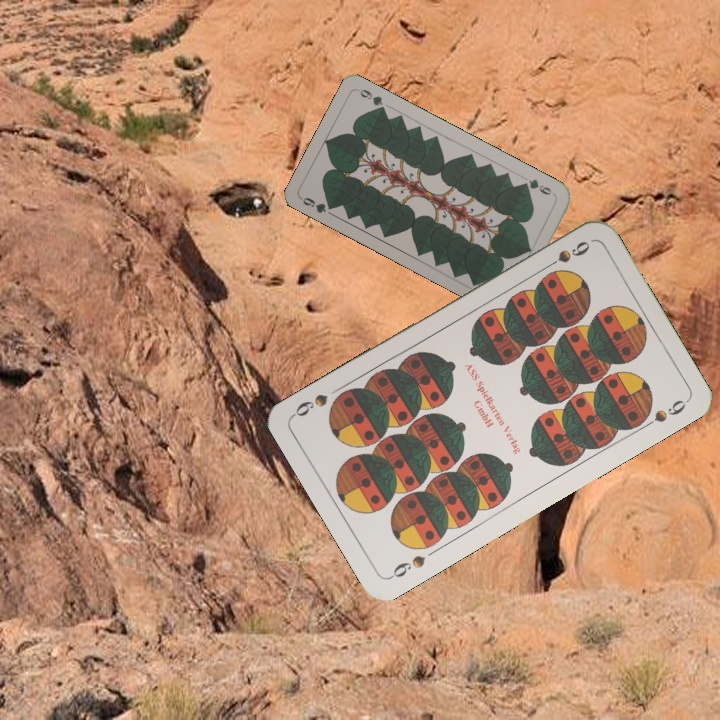G9: (518, 175, 558, 199), (297, 193, 338, 216)
S9: (539, 236, 593, 273), (385, 551, 428, 582)
